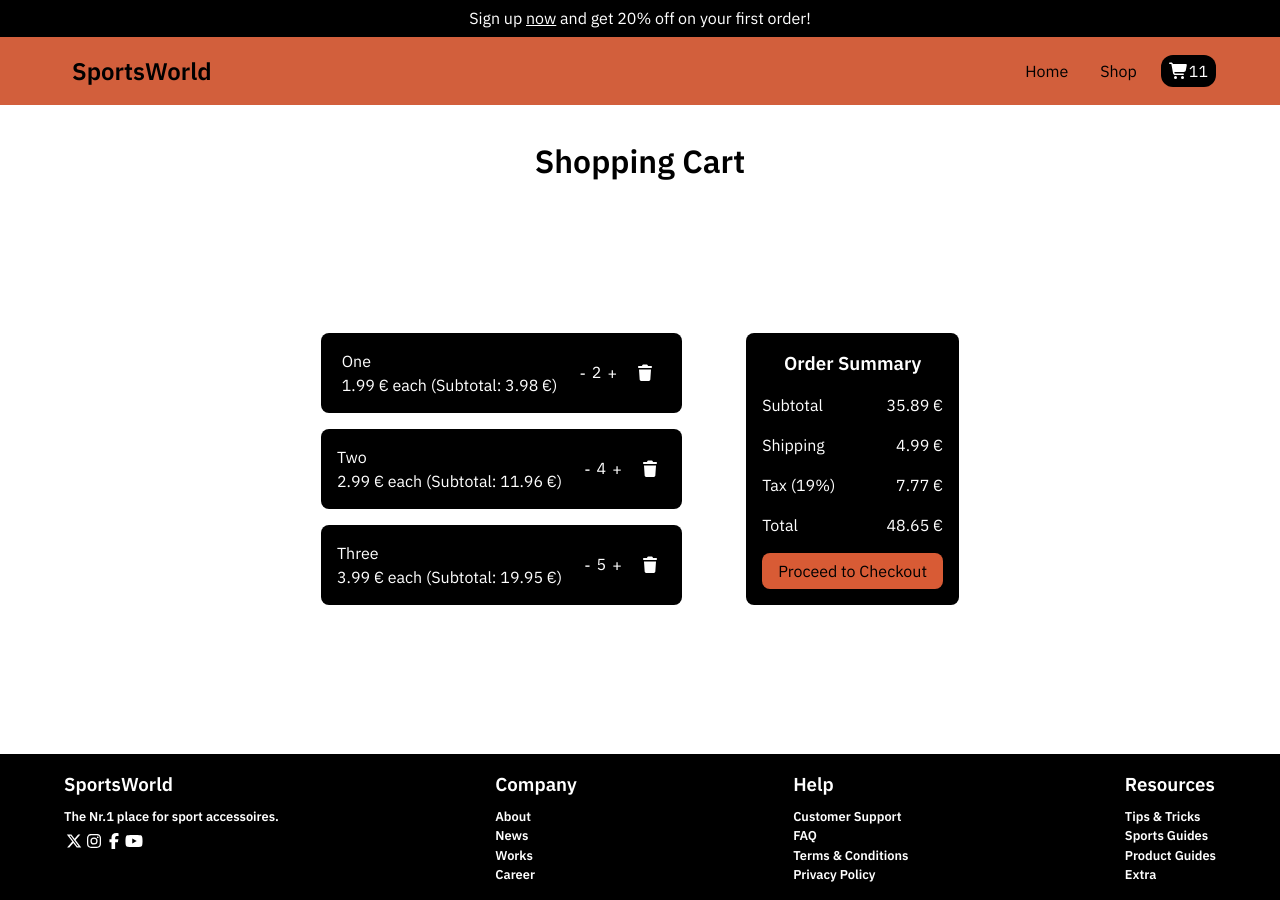
Test: Cart component › Clicking plus increases item quantity
Check: the text "2" is shown, box [592,360,601,386]
Click the button "+" in the row of "One": {"x": 612, "y": 373} [601,360,623,386]
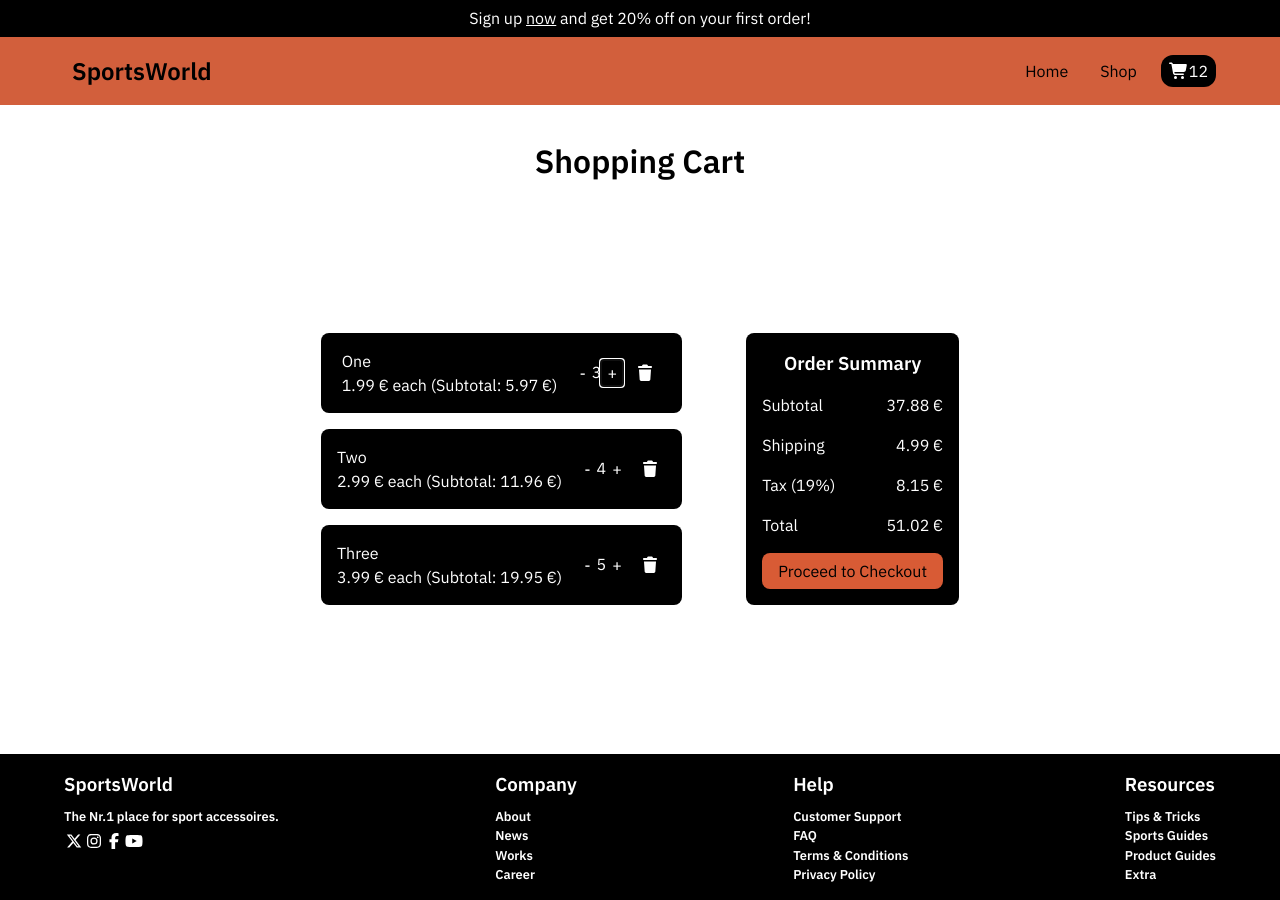
Check: the text "3" is shown, box [592,360,601,386]
